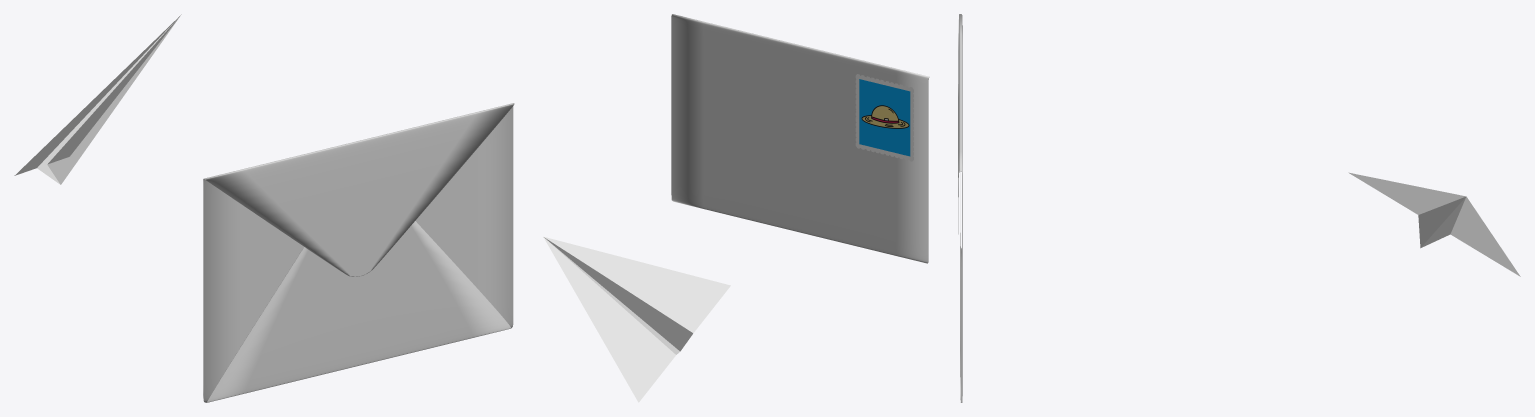
File: Contact.glb
The picture shows the model from 3 angles, left to right: view 1: azimuth 30°, elevation 25°; view 2: azimuth 150°, elevation 25°; view 3: azimuth 270°, elevation 25°; orthographic projection. The views are drawn at different scales.
Visible parts, largest first — view 1: Plane.001, Plane.002; view 2: Plane.001, Plane.002, Plane; view 3: Plane.002, Plane.001.
Boxes of the visible parts, x1,y1,x2,y2 form: Plane.001: [203, 103, 514, 402]; Plane.002: [14, 14, 181, 184]; Plane.001: [671, 14, 929, 263]; Plane.002: [543, 236, 730, 402]; Plane: [855, 74, 913, 161]; Plane.002: [1348, 172, 1520, 276]; Plane.001: [958, 14, 962, 402].
Bounding box in the file's own units: 2 × 1.39 × 3.03.
Materials: 3 (1 with a texture image).
